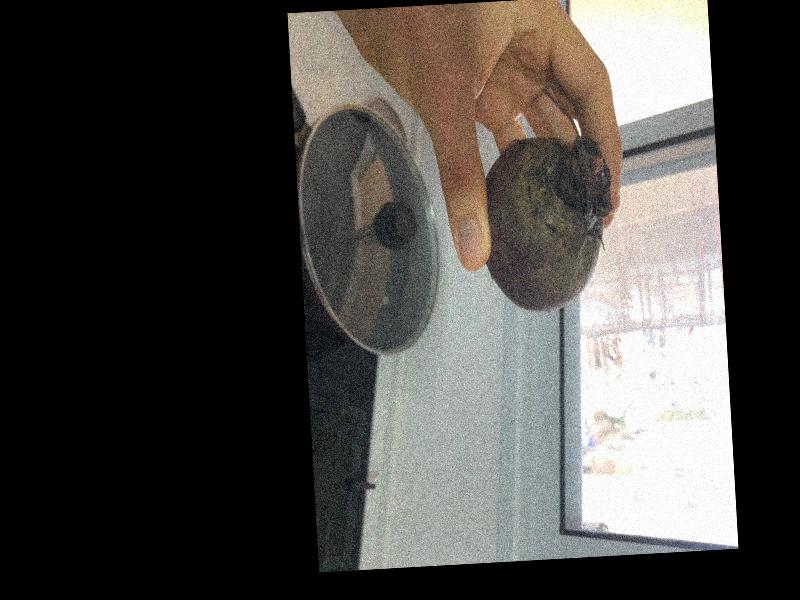Beet: (474, 83, 618, 315)
